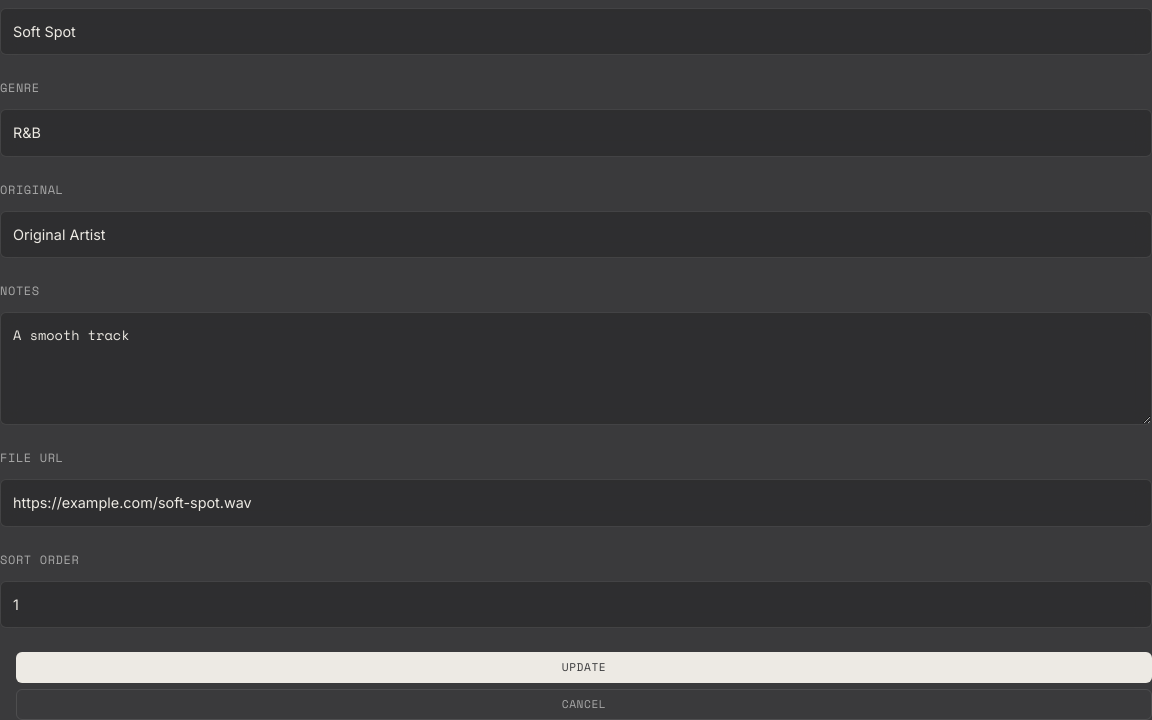
it: TrackEditor › shows error state on save failure
(page scrolled)
Click the button "UPDATE": (584, 668) [16,652,1151,683]
(page scrolled)
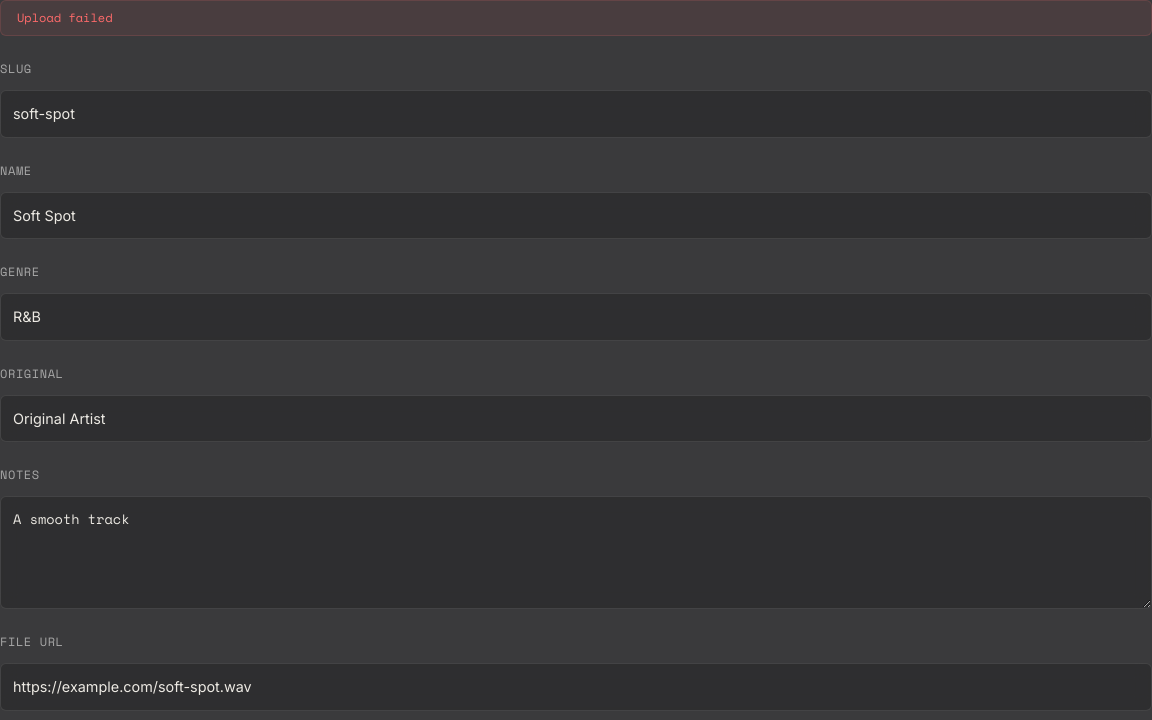
Now the text "Upload failed" is shown, box [0,0,1151,36]
